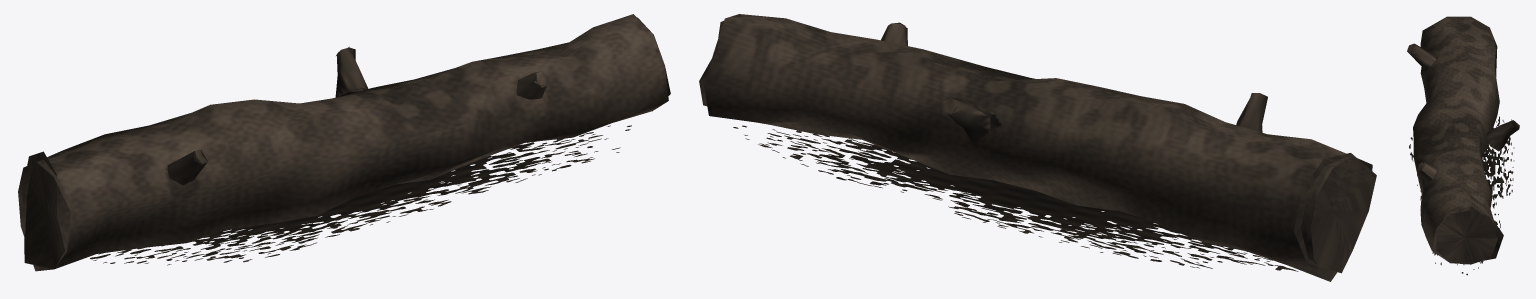
Rendered from log_fallen_long.glb.
3 renders of one model, left to right at view 1: azimuth 30°, elevation 25°; view 2: azimuth 150°, elevation 25°; view 3: azimuth 270°, elevation 25°, orthographic. The views are drawn at different scales.
Visible parts, largest first — view 1: log_fallen_long; view 2: log_fallen_long; view 3: log_fallen_long.
Boxes of the visible parts, x1=… form: log_fallen_long: x1=18, y1=14, x2=670, y2=271; log_fallen_long: x1=699, y1=14, x2=1376, y2=281; log_fallen_long: x1=1407, y1=16, x2=1519, y2=275.
Bounding box in the file's own units: 2.96 × 0.5564 × 0.702.
2 materials, 2 textured.
